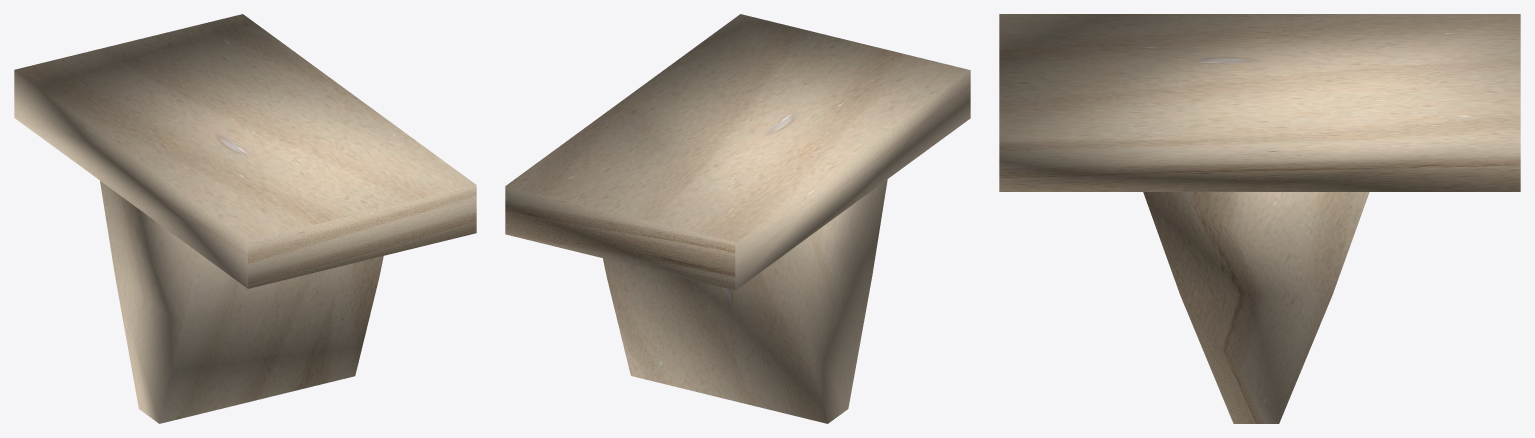
File: jump.fbx
The picture shows the model from 3 angles, left to right: view 1: azimuth 30°, elevation 25°; view 2: azimuth 150°, elevation 25°; view 3: azimuth 270°, elevation 25°; orthographic projection. The views are drawn at different scales.
Parts seen in each view (by area): view 1: jump; view 2: jump; view 3: jump.
Boxes of the visible parts, bbox=[...] form: jump: bbox=[14, 14, 476, 423]; jump: bbox=[505, 14, 970, 423]; jump: bbox=[999, 14, 1520, 423].
Size of the model in its own units: 522 by 575 by 924.
